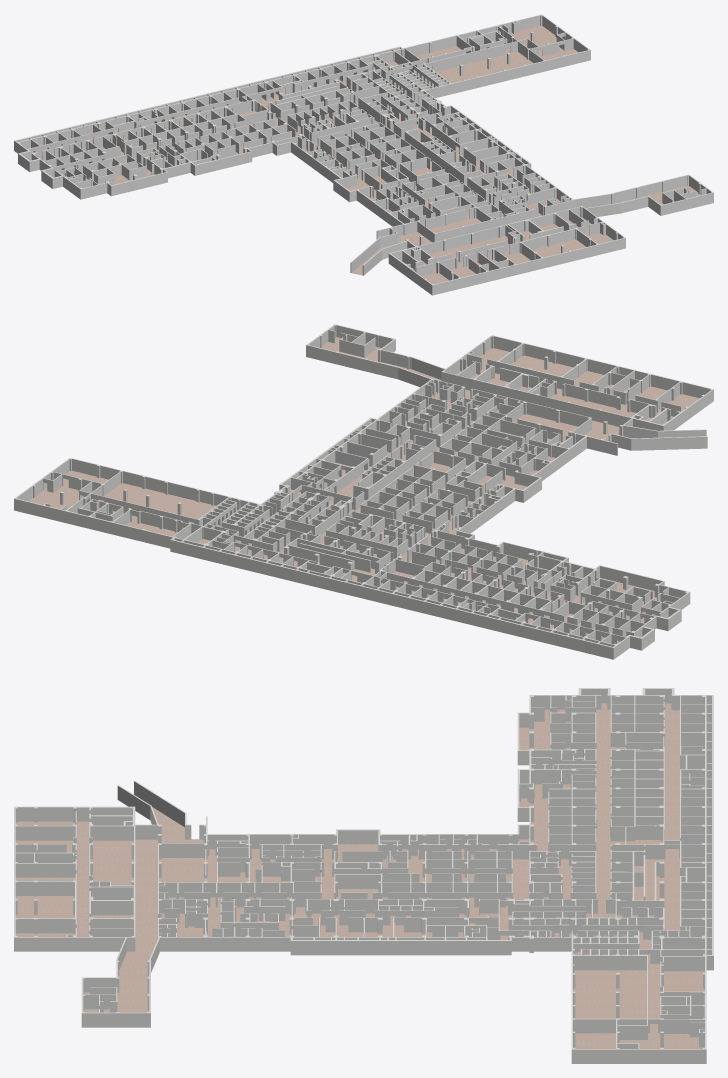
Rendered from groundFloor.glb.
3 renders of one model, top to bottom at view 1: azimuth 30°, elevation 25°; view 2: azimuth 150°, elevation 25°; view 3: azimuth 270°, elevation 25°, orthographic. The views are drawn at different scales.
Parts seen in each view (by area): view 1: BAZX-01; view 2: BAZX-01; view 3: BAZX-01.
Part boxes in pixels (x1,y1,x2,y2): BAZX-01: [14, 14, 713, 295]; BAZX-01: [14, 324, 713, 659]; BAZX-01: [14, 688, 713, 1063].
Bounding box in the file's own units: 163 × 3.01 × 133.
Materials: 2 (2 with a texture image).
